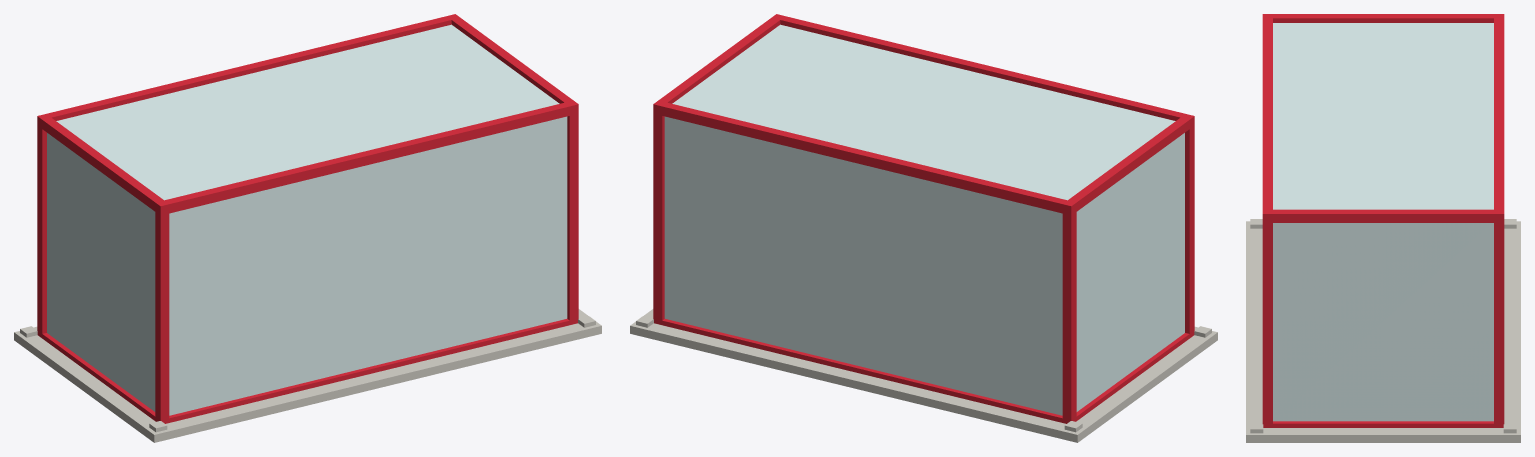
File: land-rover-defender-classic-90edition.glb
The picture shows the model from 3 angles, left to right: view 1: azimuth 30°, elevation 25°; view 2: azimuth 150°, elevation 25°; view 3: azimuth 270°, elevation 25°; orthographic projection. The views are drawn at different scales.
Size of the model in its own units: 0.35 by 0.1695 by 0.19.
